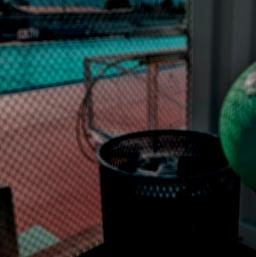algae: (218, 42, 256, 211)
